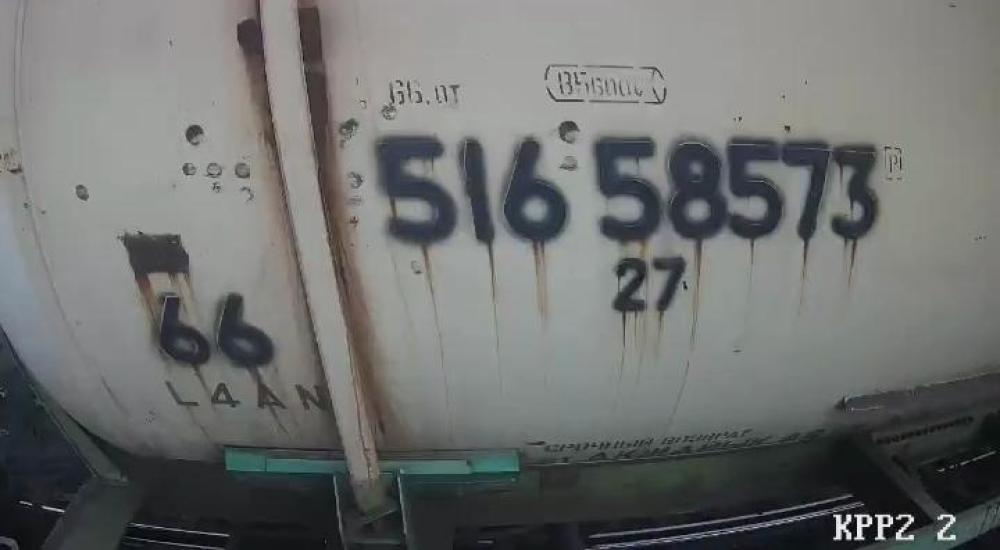Wagon-number: (368, 125, 887, 250)
